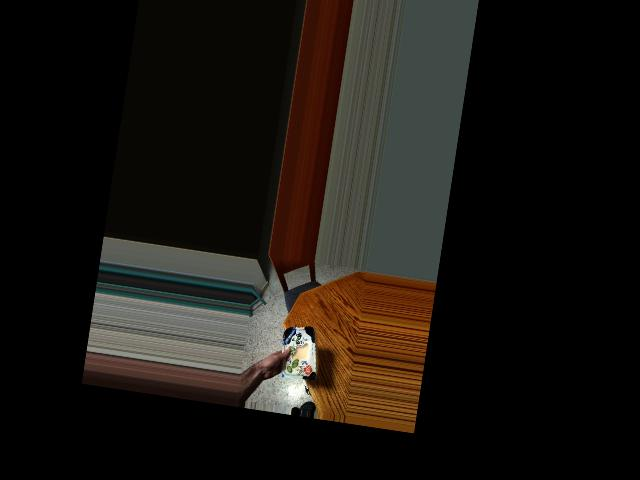cheese: (277, 321, 320, 374)
